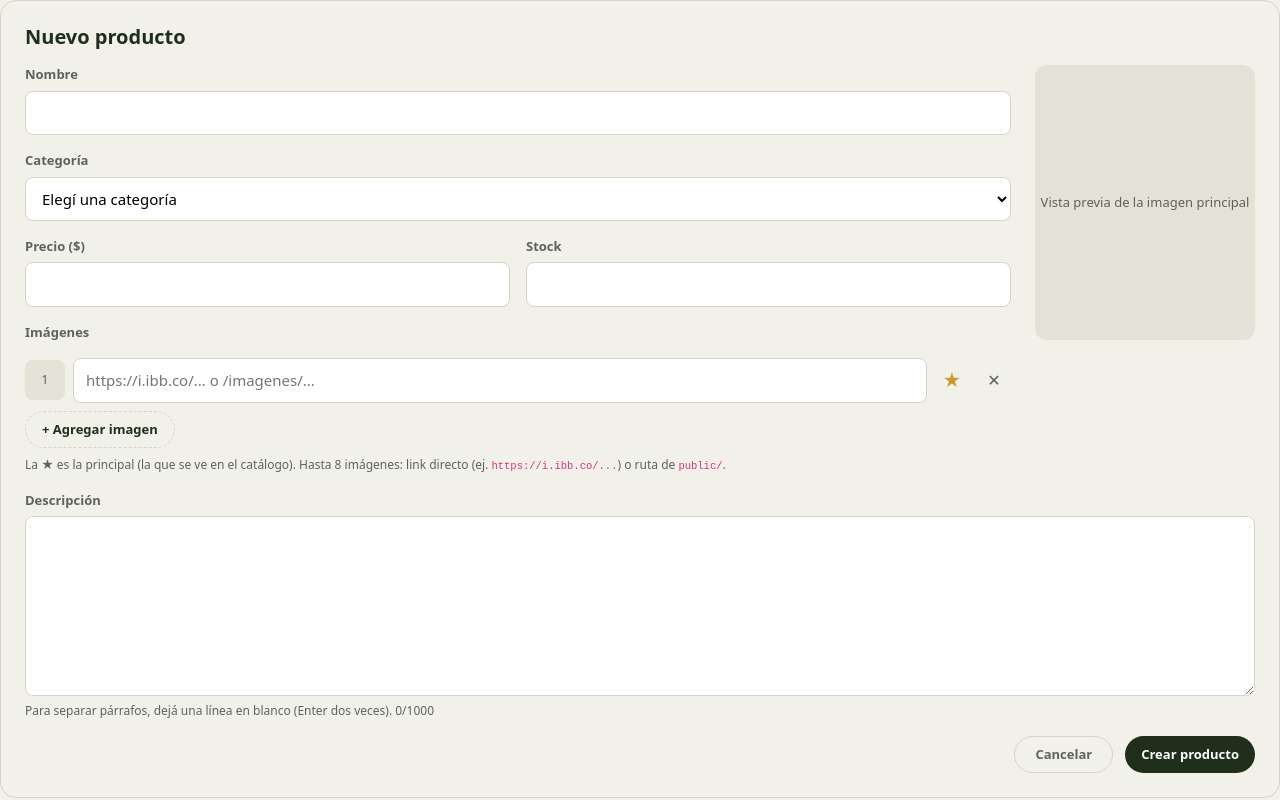
Test: ProductoForm › el stock con decimales no es válido
The image size is (1280, 800).
Type "2.5" into the number field labelled "Stock" at (768, 284), box left=526, top=262, right=1011, bottom=306
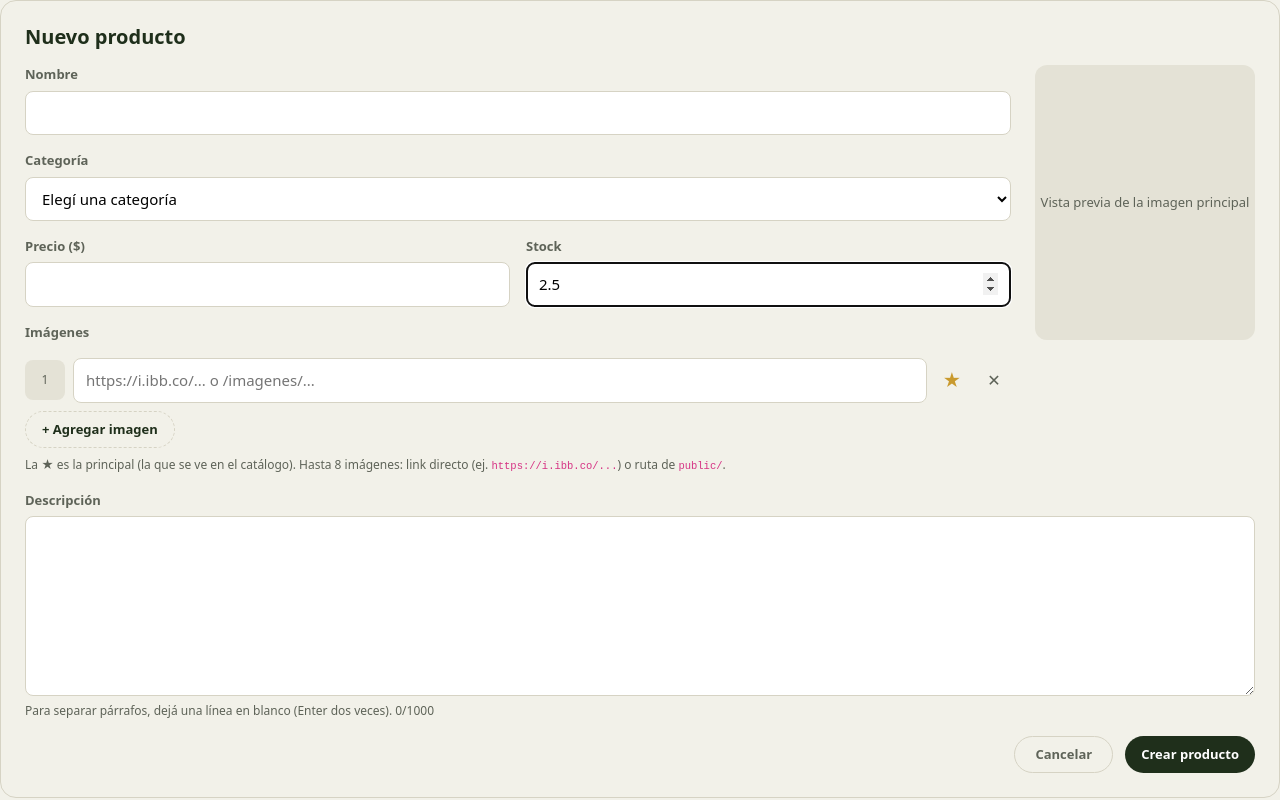
Click the button "Crear producto" at (1190, 755), box left=1125, top=736, right=1255, bottom=773
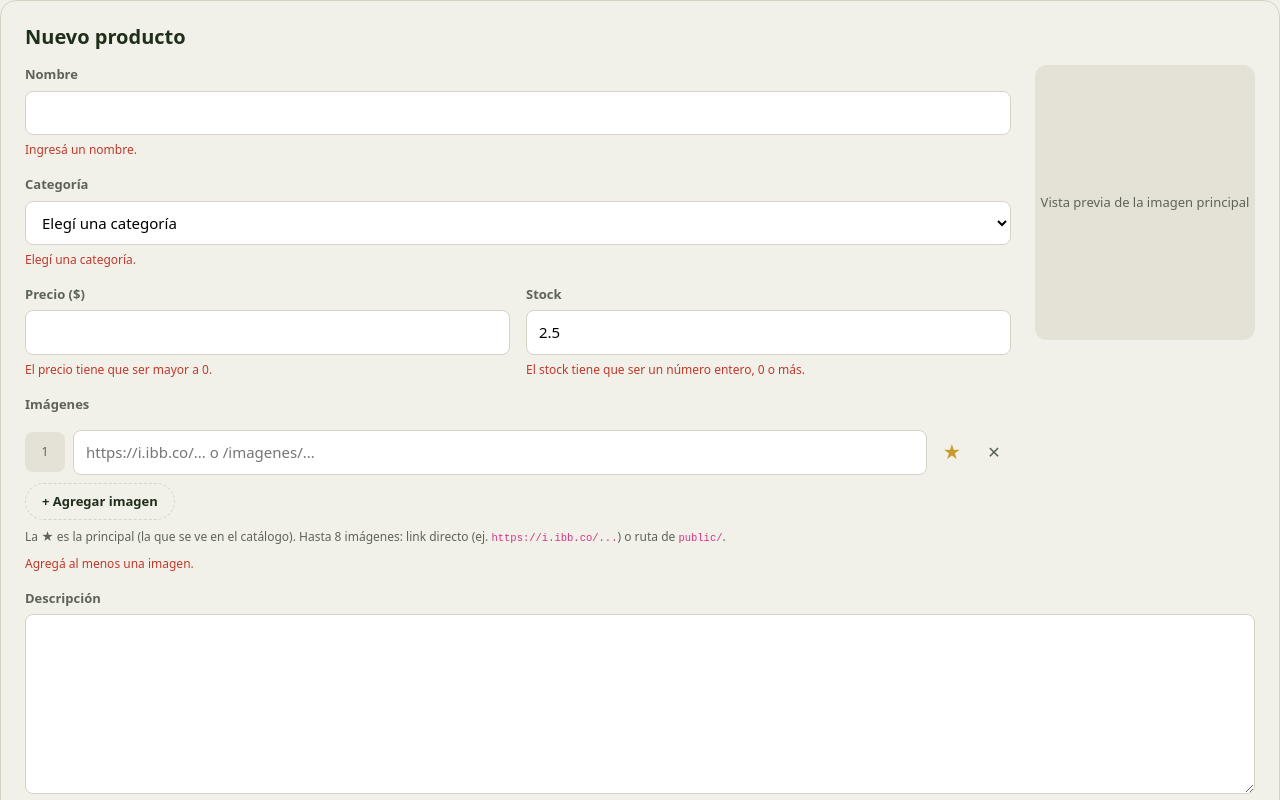
Expected: the text "El stock tiene que ser un número entero, 0 o más." is shown, left=526, top=360, right=805, bottom=378
